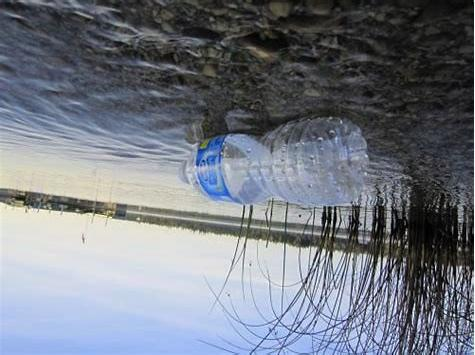Plastic: (175, 115, 374, 207)
